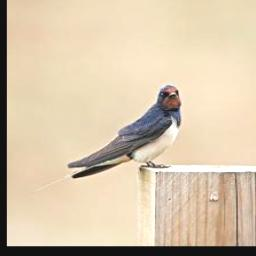Swallow: (31, 81, 184, 193)
